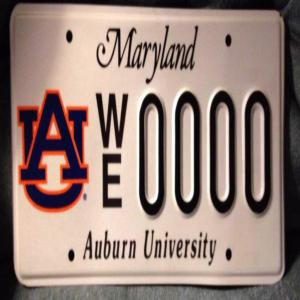Vehicle-registration-plate: (10, 3, 287, 289)
